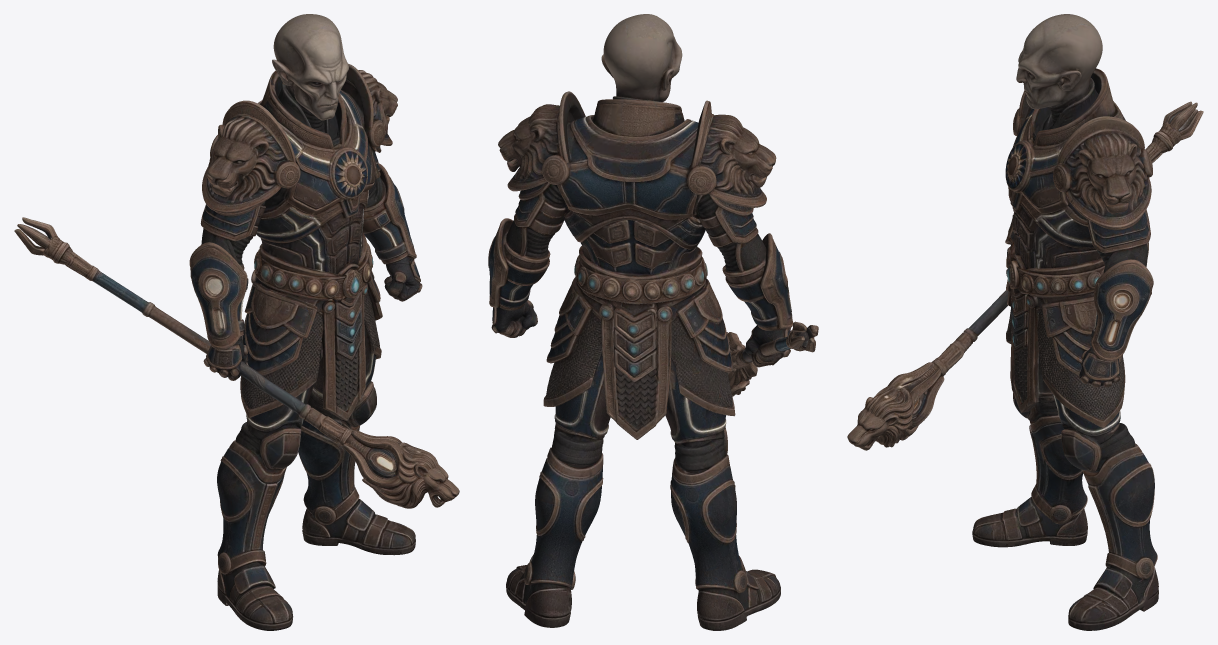
The model's file is senor-guerra-acorazado.glb.
3 renders of one model, left to right at view 1: azimuth 30°, elevation 25°; view 2: azimuth 150°, elevation 25°; view 3: azimuth 270°, elevation 25°, orthographic. The views are drawn at different scales.
Size of the model in its own units: 1.25 by 1.9 by 1.1.
1 material, 1 textured.
